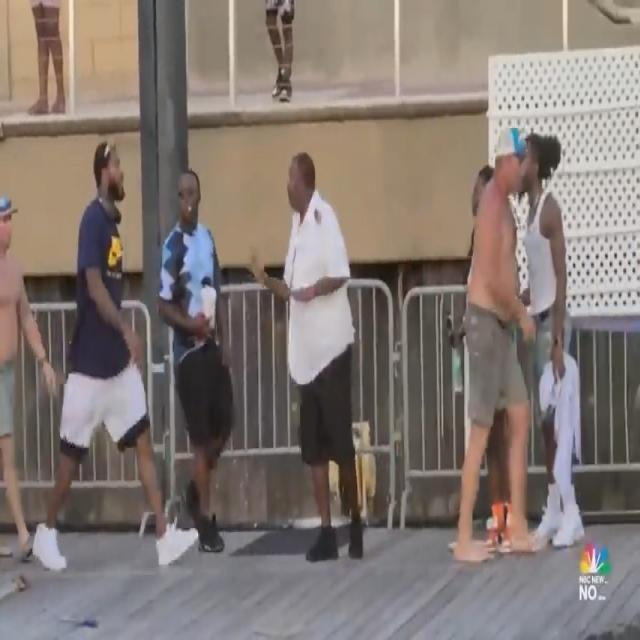non-fight: (1, 129, 370, 577), (453, 116, 587, 568)
